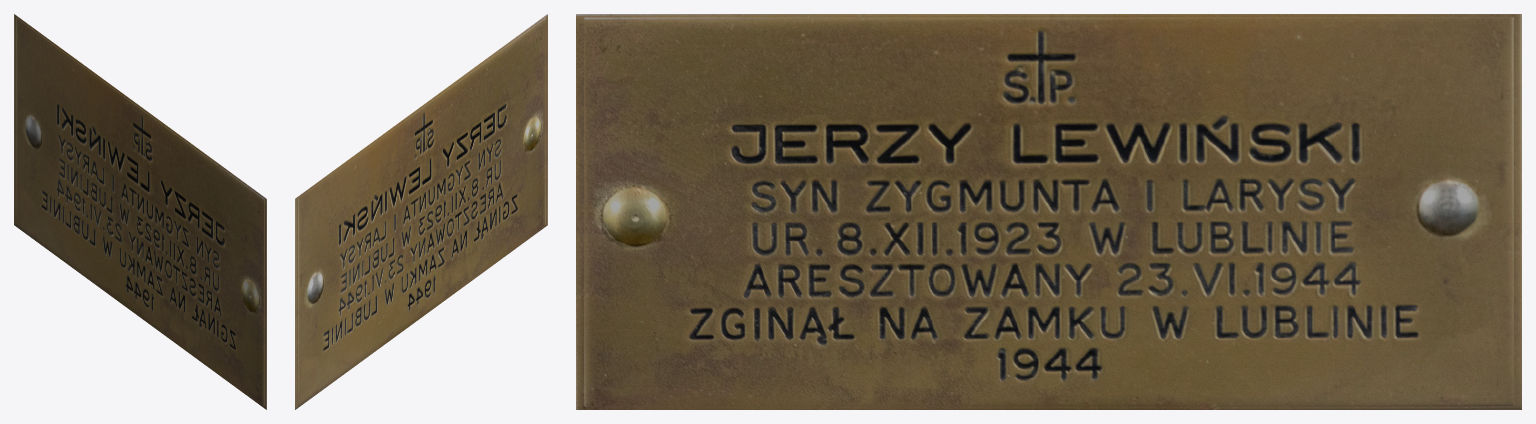
File: 24. ŚP. JERZY LEWIŃSKI.glb
3 renders of one model, left to right at view 1: azimuth 30°, elevation 25°; view 2: azimuth 150°, elevation 25°; view 3: azimuth 270°, elevation 25°, orthographic. The views are drawn at different scales.
Parts seen in each view (by area): view 1: Plane; view 2: Plane; view 3: Plane.
Boxes of the visible parts, x1,y1,x2,y2 form: Plane: (14,14,266,409); Plane: (295,14,547,409); Plane: (576,14,1521,409).
Bounding box in the file's own units: 0.0246 × 6 × 13.
Materials: 1 (1 with a texture image).
